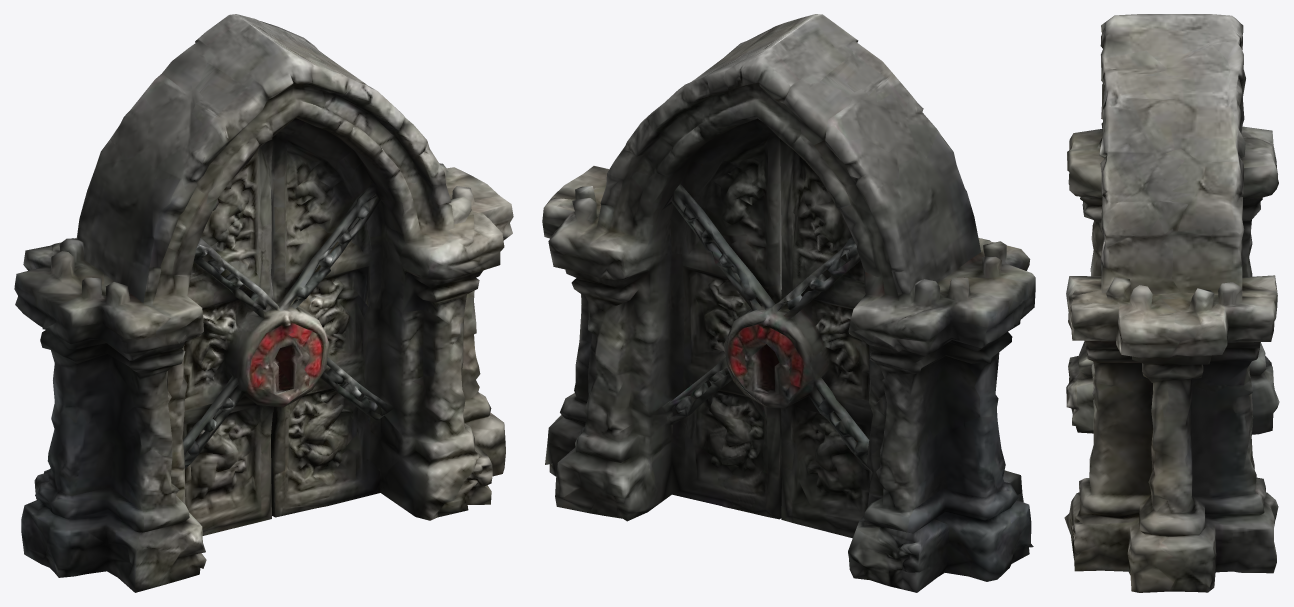
Rendered from sealdoor.glb.
The picture shows the model from 3 angles, left to right: view 1: azimuth 30°, elevation 25°; view 2: azimuth 150°, elevation 25°; view 3: azimuth 270°, elevation 25°; orthographic projection.
Parts seen in each view (by area): view 1: tripo_node_de7c83c2-6008-414a-8cd5-4c7d205c986d; view 2: tripo_node_de7c83c2-6008-414a-8cd5-4c7d205c986d; view 3: tripo_node_de7c83c2-6008-414a-8cd5-4c7d205c986d.
Part boxes in pixels (box(x1,y1,x2,y2)): tripo_node_de7c83c2-6008-414a-8cd5-4c7d205c986d: box(14, 14, 513, 592); tripo_node_de7c83c2-6008-414a-8cd5-4c7d205c986d: box(542, 14, 1035, 592); tripo_node_de7c83c2-6008-414a-8cd5-4c7d205c986d: box(1064, 14, 1279, 592).
Size of the model in its own units: 0.9854 by 0.9999 by 0.4134.
Materials: 1 (1 with a texture image).
